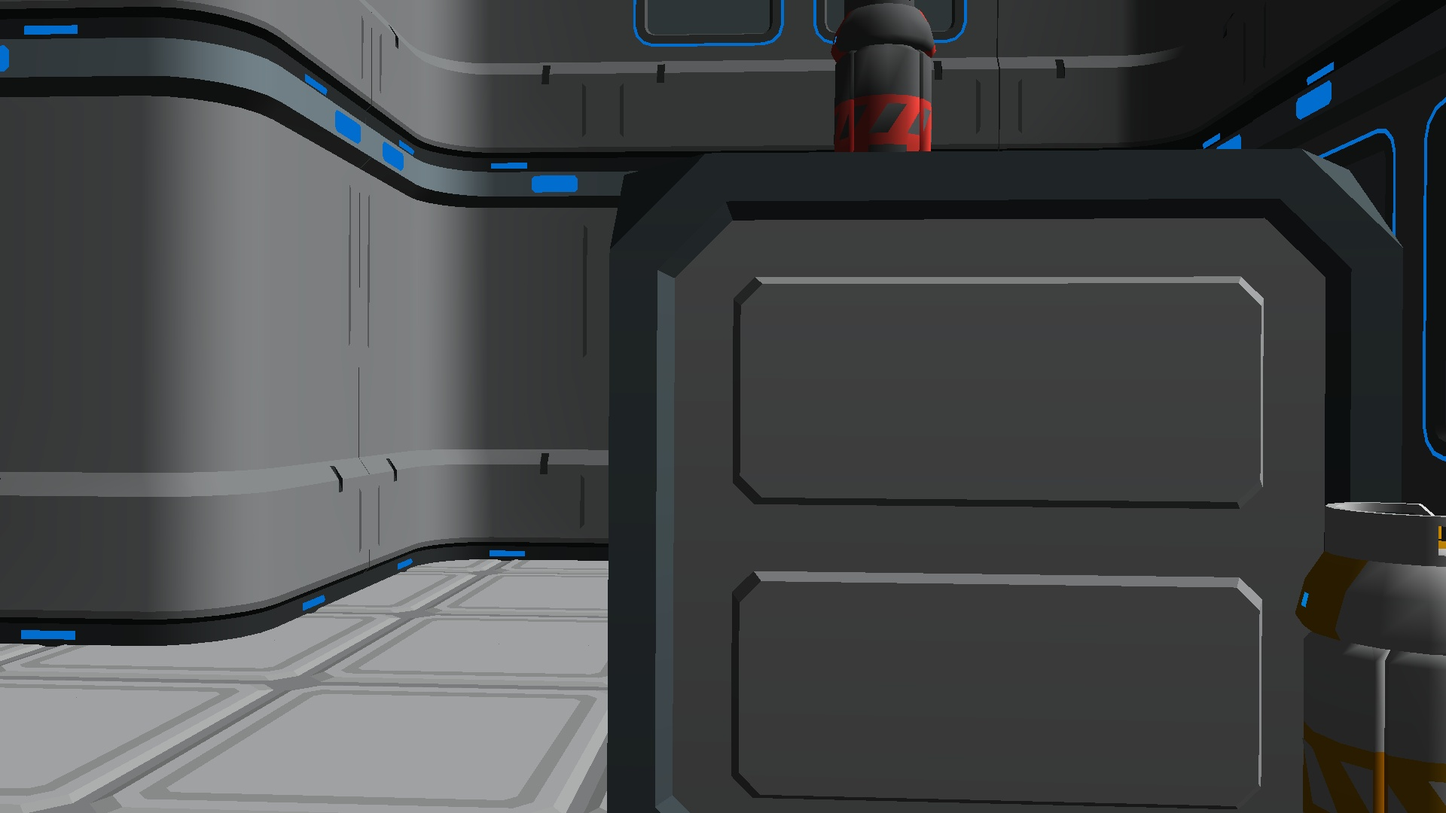red barrel: (831, 0, 936, 152)
yellow barrel: (1295, 501, 1446, 813)
